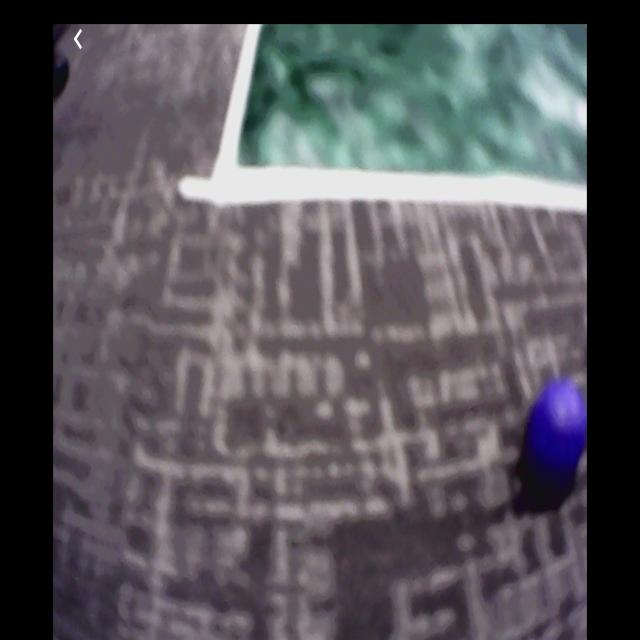ball: (526, 377, 588, 485)
